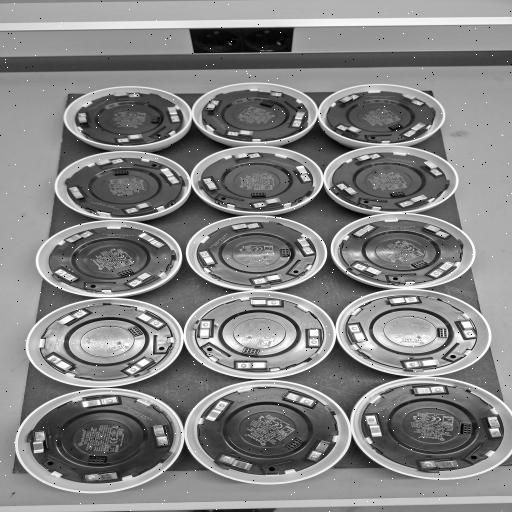konnektor: (84, 454, 113, 466), (458, 420, 476, 438), (284, 436, 304, 452), (125, 325, 145, 339), (408, 258, 430, 269), (114, 267, 136, 277), (242, 346, 266, 355), (278, 246, 292, 261), (436, 326, 452, 338), (258, 100, 279, 109), (388, 120, 405, 131), (246, 190, 268, 198), (148, 114, 162, 126), (387, 190, 405, 198), (112, 170, 130, 177)
yaysiz: (217, 453, 260, 473), (204, 398, 234, 424), (145, 422, 174, 448), (278, 390, 318, 408), (413, 457, 463, 471), (305, 437, 334, 461), (45, 353, 77, 374), (124, 356, 157, 376), (77, 394, 121, 409), (480, 413, 505, 439), (130, 310, 166, 328), (55, 309, 90, 327), (82, 470, 127, 484), (364, 412, 386, 440), (134, 232, 168, 250), (401, 356, 443, 370), (402, 384, 447, 397), (454, 317, 479, 340), (303, 323, 325, 349), (346, 322, 372, 344), (351, 261, 384, 278), (155, 166, 183, 186), (63, 230, 98, 246), (384, 294, 424, 308), (52, 268, 83, 286), (429, 260, 460, 278), (416, 158, 444, 177), (242, 297, 285, 309), (420, 223, 452, 239), (128, 270, 156, 288), (30, 430, 49, 456), (111, 132, 152, 144), (122, 201, 156, 215), (347, 152, 386, 164), (234, 360, 276, 371), (250, 86, 288, 98), (400, 92, 428, 108), (399, 194, 431, 208), (349, 224, 377, 240), (288, 109, 309, 130), (291, 164, 313, 184), (198, 249, 220, 269), (293, 236, 315, 256), (403, 120, 428, 137), (251, 273, 286, 285), (334, 181, 358, 198), (165, 106, 185, 126), (92, 157, 128, 168), (253, 197, 286, 209), (226, 222, 262, 233), (197, 319, 215, 341), (335, 123, 365, 136), (225, 127, 255, 139), (66, 186, 86, 204), (228, 152, 261, 162), (112, 90, 144, 100), (336, 94, 362, 106), (203, 99, 224, 113), (75, 111, 92, 125), (204, 177, 219, 191)
